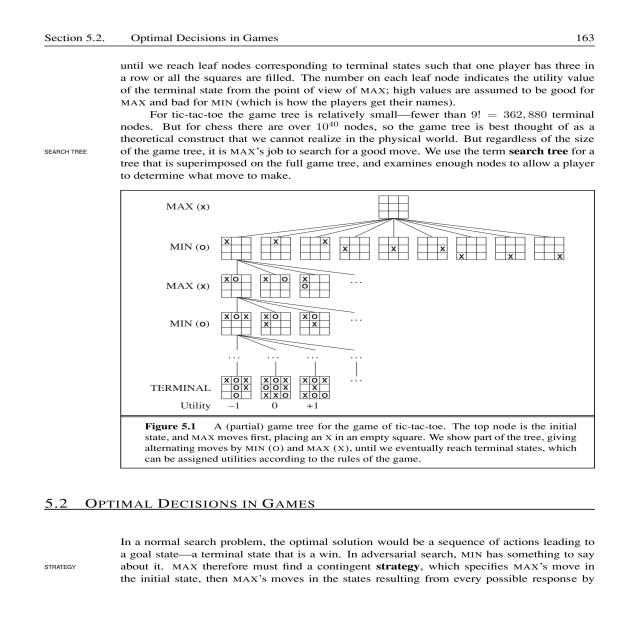diagram: (96, 179, 635, 481)
